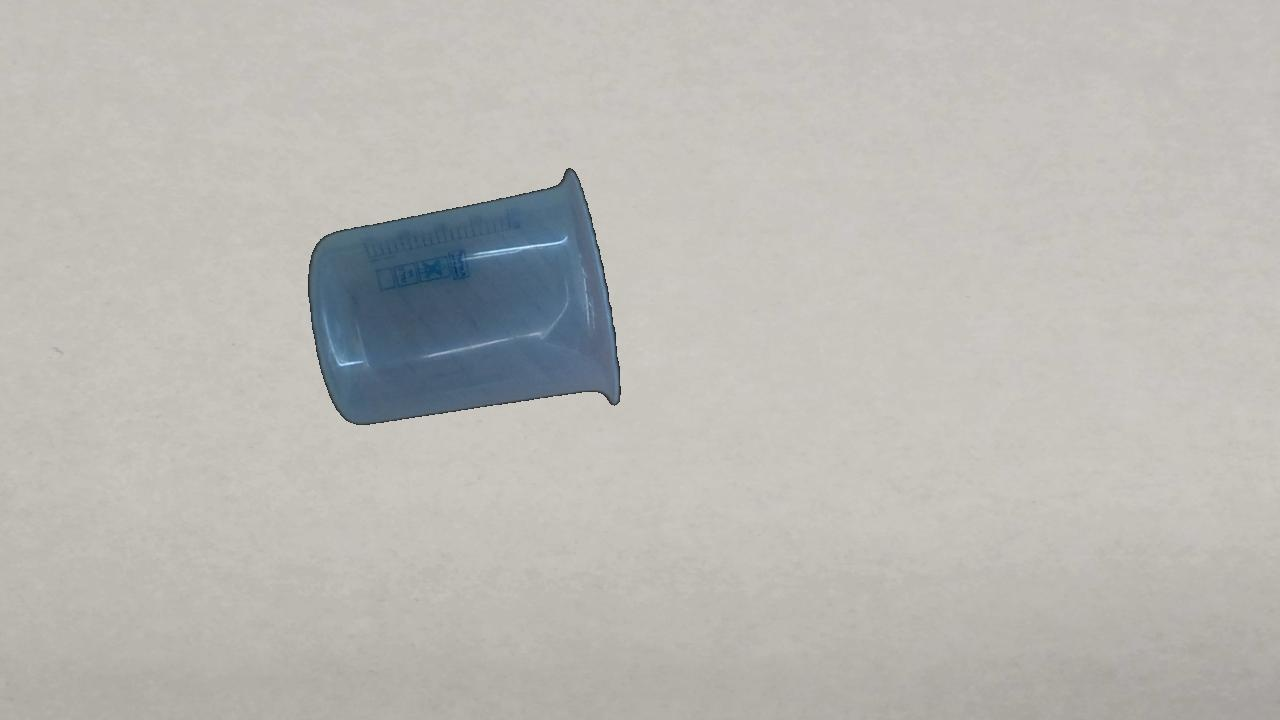becker: (307, 167, 621, 427)
